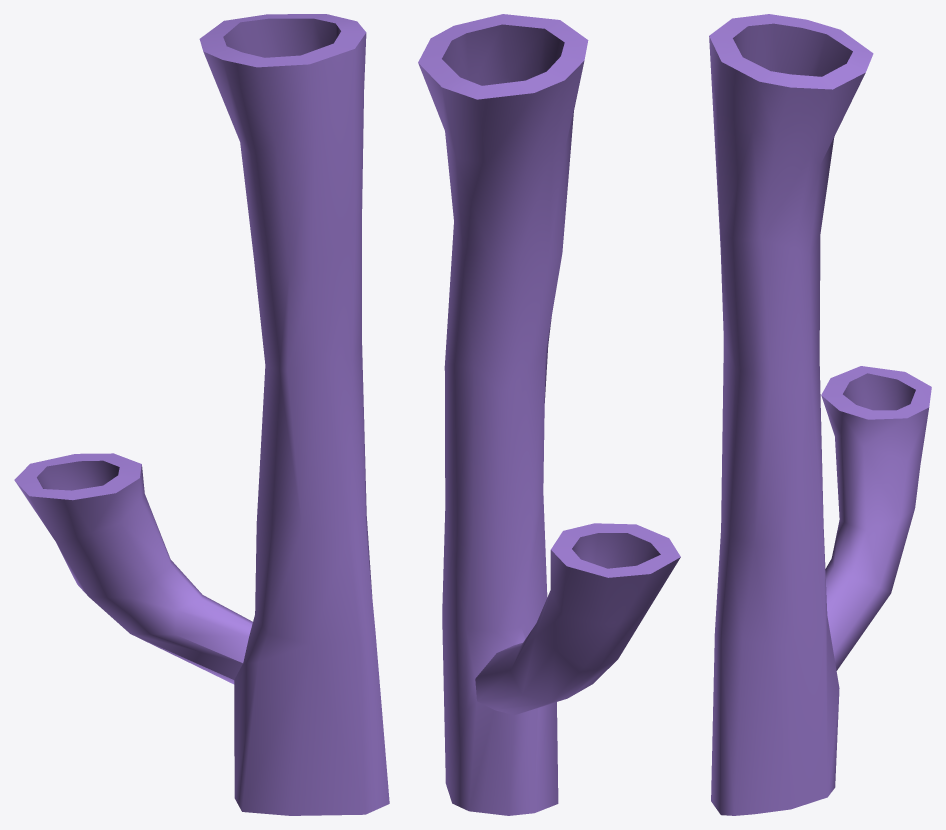
The model's file is coral_tube_D_light.fbx.
3 renders of one model, left to right at view 1: azimuth 30°, elevation 25°; view 2: azimuth 150°, elevation 25°; view 3: azimuth 270°, elevation 25°, orthographic. The views are drawn at different scales.
Parts seen in each view (by area): view 1: coral_tube_D_light; view 2: coral_tube_D_light; view 3: coral_tube_D_light.
Part boxes in pixels (bbox=[...]): coral_tube_D_light: bbox=[14, 14, 389, 815]; coral_tube_D_light: bbox=[418, 14, 680, 815]; coral_tube_D_light: bbox=[709, 14, 931, 815].
Size of the model in its own units: 16.23 by 40.74 by 11.13.
